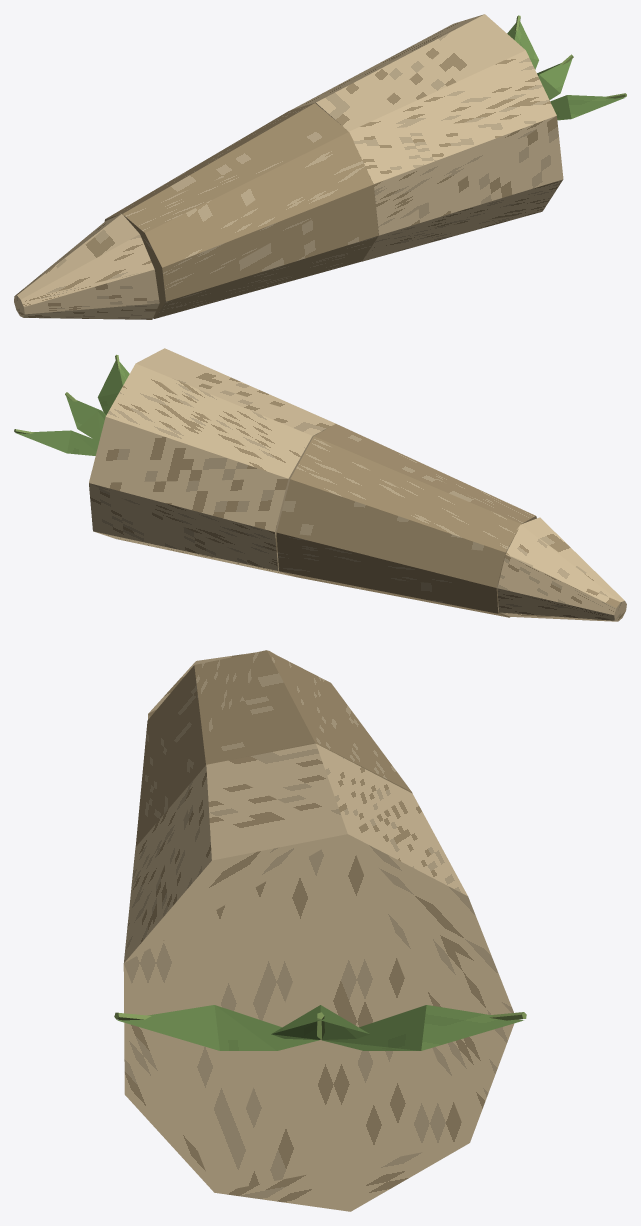
The model's file is carrot_wild.glb.
3 views of the same model, one above another, from view 1: azimuth 30°, elevation 25°; view 2: azimuth 150°, elevation 25°; view 3: azimuth 270°, elevation 25° (orthographic). The views are drawn at different scales.
Visible parts, largest first — view 1: block_tapering root 2, block_tapering root 1, block_tapering root 0, block_trimmed leaf stalk tip (×2); view 2: block_tapering root 2, block_tapering root 1, block_tapering root 0, block_trimmed leaf stalk tip (×3), block_trimmed leaf stalk blade (×2); view 3: block_tapering root 2, block_tapering root 1, block_trimmed leaf stalk blade (×2), block_trimmed leaf stalk tip (×2).
Boxes of the visible parts, box(x1,y1,x2,y2) form: block_tapering root 2: box(291, 14, 563, 261); block_tapering root 1: box(104, 103, 378, 318); block_tapering root 0: box(14, 214, 159, 319); block_trimmed leaf stalk tip (×2): box(539, 59, 625, 118); block_tapering root 2: box(89, 348, 335, 576); block_tapering root 1: box(276, 424, 536, 617); block_tapering root 0: box(497, 517, 626, 621); block_trimmed leaf stalk tip (×3): box(16, 361, 122, 453); block_trimmed leaf stalk blade (×2): box(67, 411, 104, 455); block_tapering root 2: box(123, 743, 514, 1211); block_tapering root 1: box(135, 650, 412, 846); block_trimmed leaf stalk blade (×2): box(214, 1005, 426, 1050); block_trimmed leaf stalk tip (×2): box(117, 1005, 523, 1050).
Size of the model in its own units: 0.19 by 0.0609 by 0.0624.
Materials: 2 (2 with a texture image).
